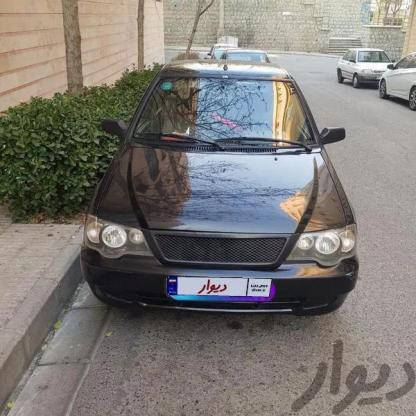Car: (76, 67, 364, 332), (208, 30, 295, 70), (341, 40, 395, 89), (380, 52, 416, 116)
